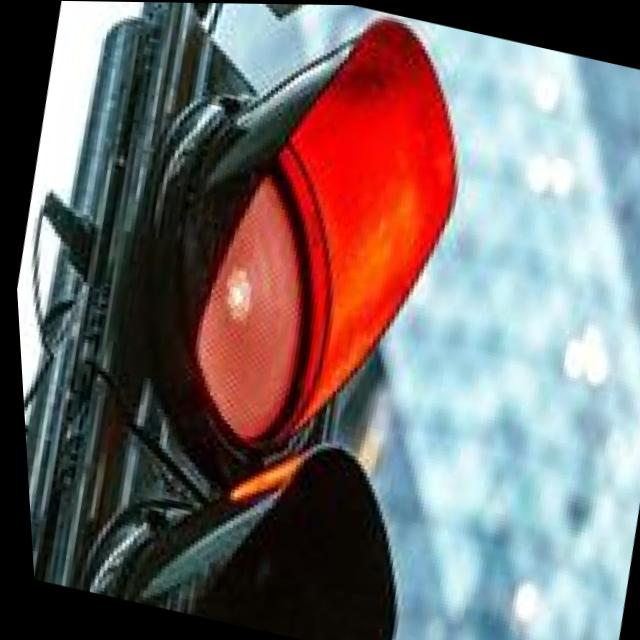red_light: (73, 63, 490, 486)
